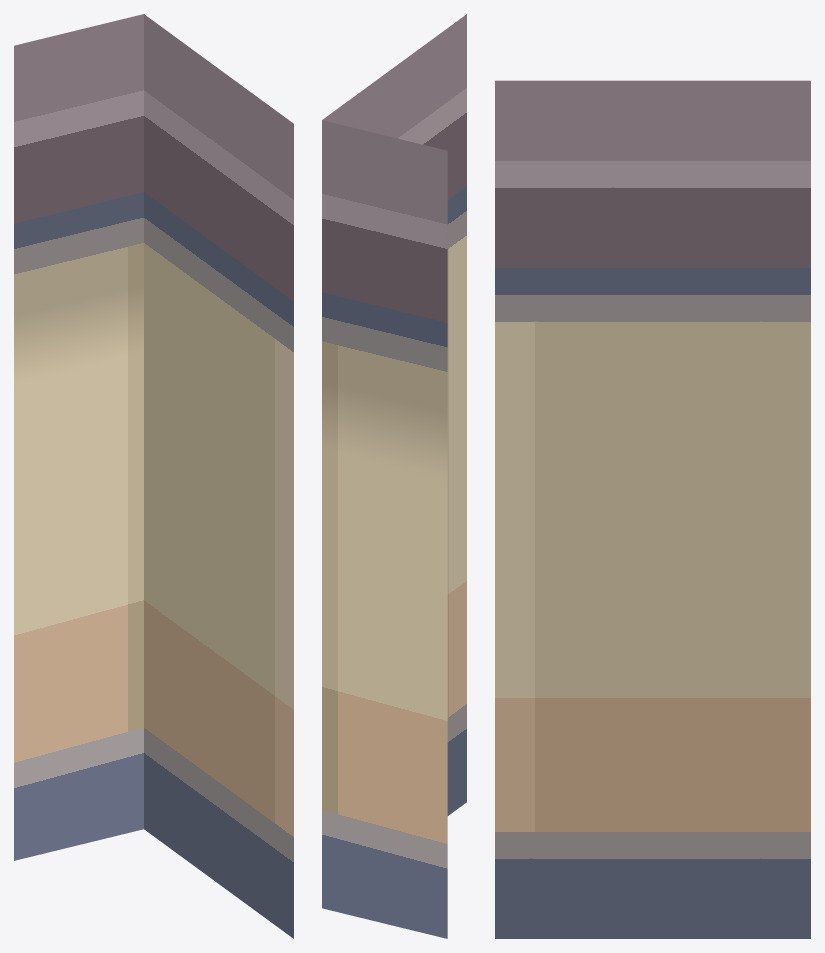
3 renders of one model, left to right at view 1: azimuth 30°, elevation 25°; view 2: azimuth 150°, elevation 25°; view 3: azimuth 270°, elevation 25°, orthographic. The views are drawn at different scales.
Bounding box in the file's own units: 0.5 × 3 × 1.
1 material, 1 textured.
